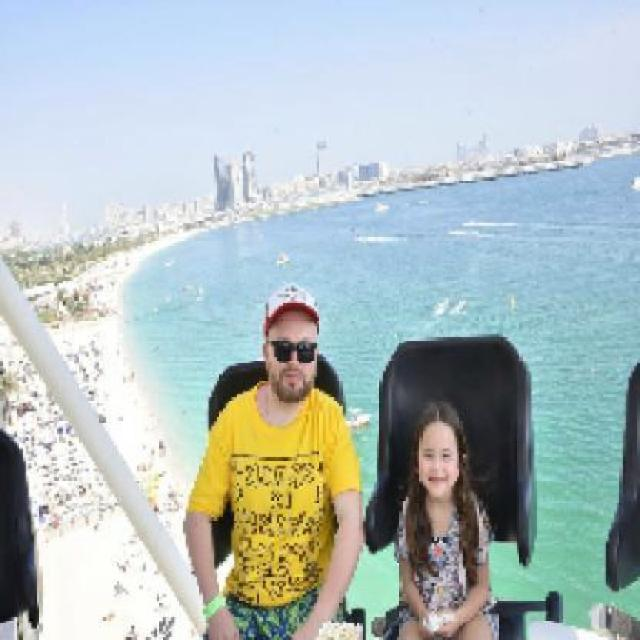child: (391, 400, 500, 637)
